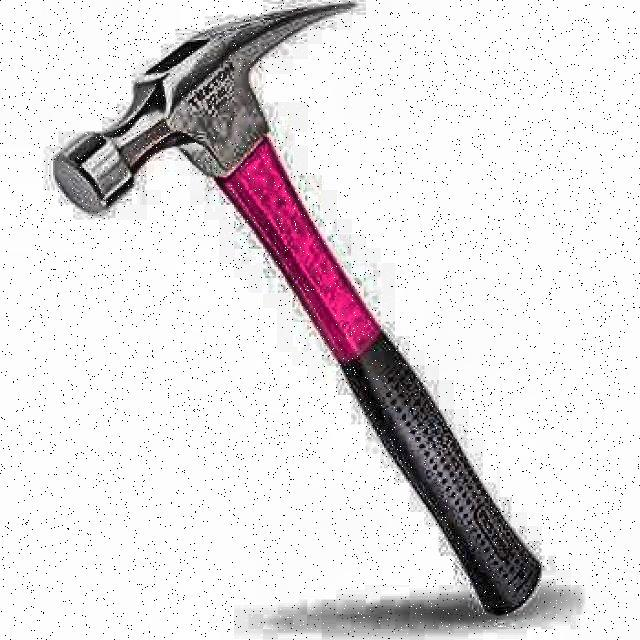hammer: (51, 6, 562, 618)
